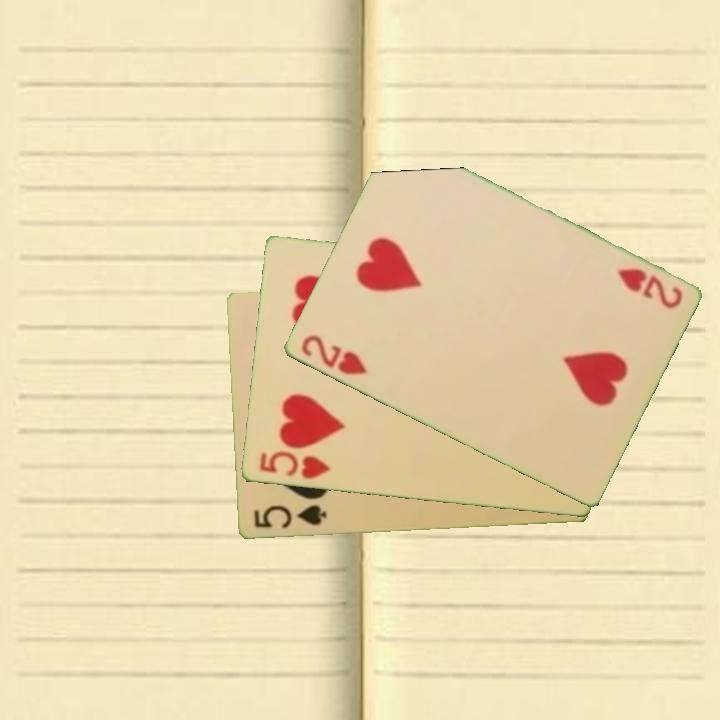2h: (297, 331, 370, 378), (613, 265, 685, 312)
5h: (256, 448, 333, 483)
5s: (250, 501, 330, 531)
